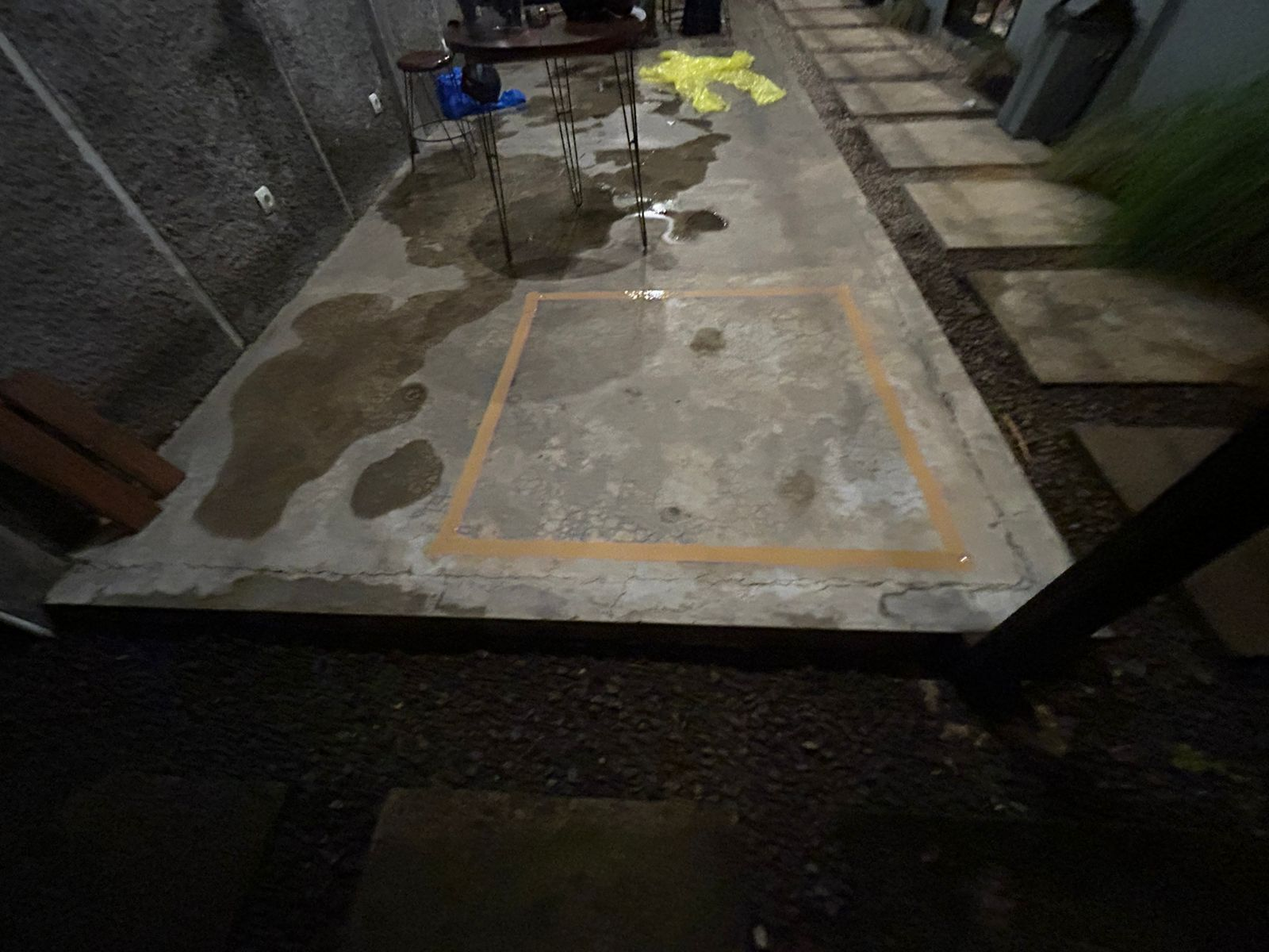floor marking: (427, 286, 972, 570)
